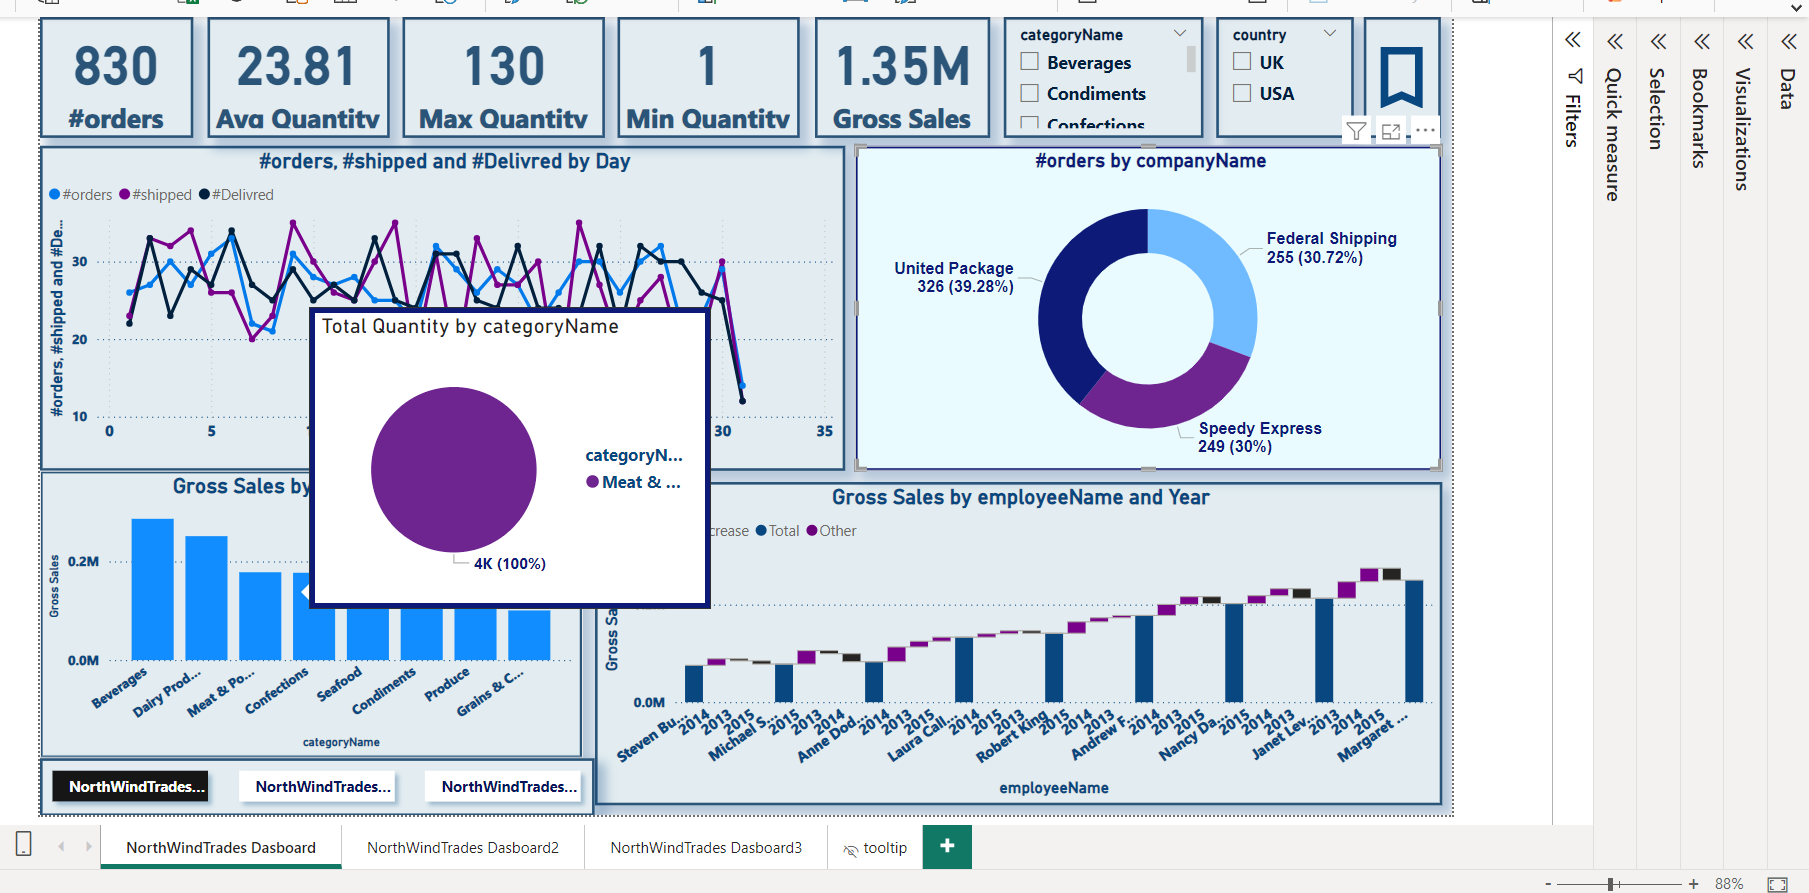

Layout of this report page (visuals, bound fields, positions):
{"tool":"powerbi","page":{"name":"NorthWindTrades Dasboard","canvas":[1289,729],"ordinal":0},"visuals":[{"type":"card","fields":{"Values":["Dax Mesures.#orders"]},"box":[0,0,140.3,110.5],"z":0},{"type":"lineChart","fields":{"Y":["Dax Mesures.#orders","Dax Mesures.#shipped","Dax Mesures.#Delivred"],"Category":["Date Dim.Year Hierarchy.Year","Date Dim.Year Hierarchy.Quarter","Date Dim.Year Hierarchy.Month","Date Dim.Year Hierarchy.Day"]},"box":[0,117.9,734.8,296.7],"z":1000},{"type":"card","fields":{"Values":["Dax Mesures.Average Quantity"]},"box":[152.7,0,166.3,110.5],"z":2000},{"type":"card","fields":{"Values":["Dax Mesures.Max Quantity"]},"box":[331.4,0,185,110.5],"z":3000},{"type":"card","fields":{"Values":["Dax Mesures.Min Quantity"]},"box":[527.5,0,166.3,110.5],"z":4000},{"type":"clusteredColumnChart","fields":{"Y":["Dax Mesures.Gross Sales"],"Category":["products Dim.categoryName","products Dim.productName"]},"box":[0,414.3,495.3,262.5],"z":5000},{"type":"card","fields":{"Values":["Dax Mesures.Gross Sales"]},"box":[707.5,0,160.1,110.5],"z":6000},{"type":"waterfallChart","fields":{"Category":["employees Dim.employeeName"],"Y":["Dax Mesures.Gross Sales"],"Breakdown":["Date Dim.Year"]},"box":[507,424.4,773.3,295.3],"z":7000},{"type":"slicer","fields":{"Values":["employees Dim.country"]},"box":[1073.7,0,125.4,110.5],"z":8000},{"type":"actionButton","title":"ChartButton","box":[1209,0,70.8,110.5],"z":12000},{"type":"donutChart","fields":{"Category":["shippers Dim.companyName"],"Y":["Dax Mesures.#orders"]},"box":[743.5,117.9,536.2,296.7],"z":14000},{"type":"slicer","fields":{"Values":["products Dim.categoryName"]},"box":[880.1,0,182.5,110.5],"z":15000},{"type":"pageNavigator","box":[0,676.7,506.7,52.5],"z":17000}]}

Visuals, with their boxes on the page's 1289x729 design canvas (x1, y1, x2, y2). These are canvas units, not pixel positions in the 1809x893 screenshot, which may show the page scaled, cropped or inside an application window:
card - Dax Mesures.#orders: 0:0:140:110
lineChart - Dax Mesures.#orders x Dax Mesures.#shipped: 0:118:735:415
card - Dax Mesures.Average Quantity: 153:0:319:110
card - Dax Mesures.Max Quantity: 331:0:516:110
card - Dax Mesures.Min Quantity: 528:0:694:110
clusteredColumnChart - Dax Mesures.Gross Sales x products Dim.categoryName: 0:414:495:677
card - Dax Mesures.Gross Sales: 708:0:868:110
waterfallChart - employees Dim.employeeName x Dax Mesures.Gross Sales: 507:424:1280:720
slicer - employees Dim.country: 1074:0:1199:110
"ChartButton" actionButton: 1209:0:1280:110
donutChart - shippers Dim.companyName x Dax Mesures.#orders: 744:118:1280:415
slicer - products Dim.categoryName: 880:0:1063:110
pageNavigator: 0:677:507:729
